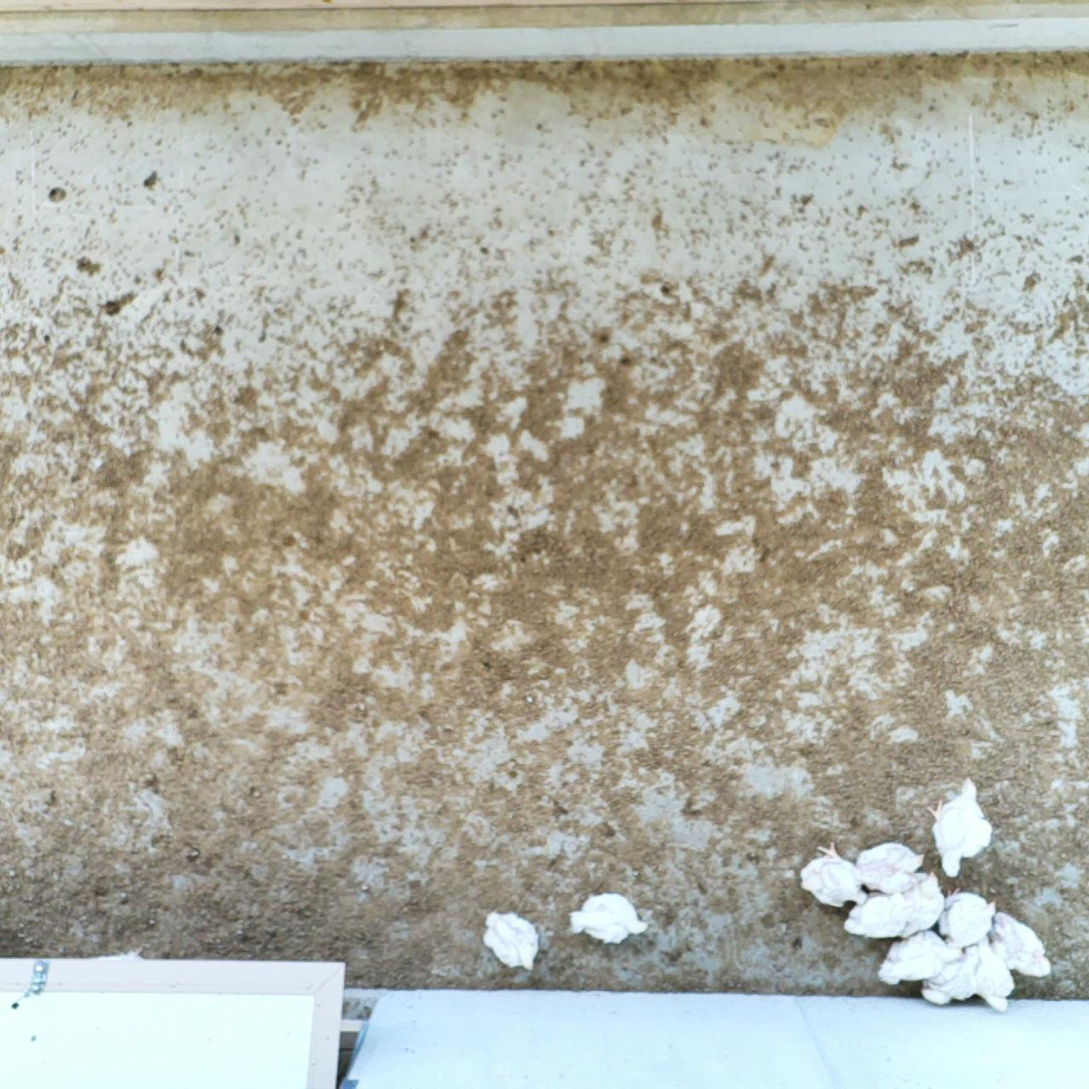chicken: (932, 774, 995, 882), (986, 908, 1056, 984), (798, 840, 871, 912), (872, 932, 968, 985), (569, 888, 650, 948), (854, 836, 930, 896), (922, 941, 988, 1010), (478, 907, 546, 973), (936, 886, 1002, 951), (965, 937, 1013, 1016), (897, 865, 946, 941), (842, 892, 911, 940)
